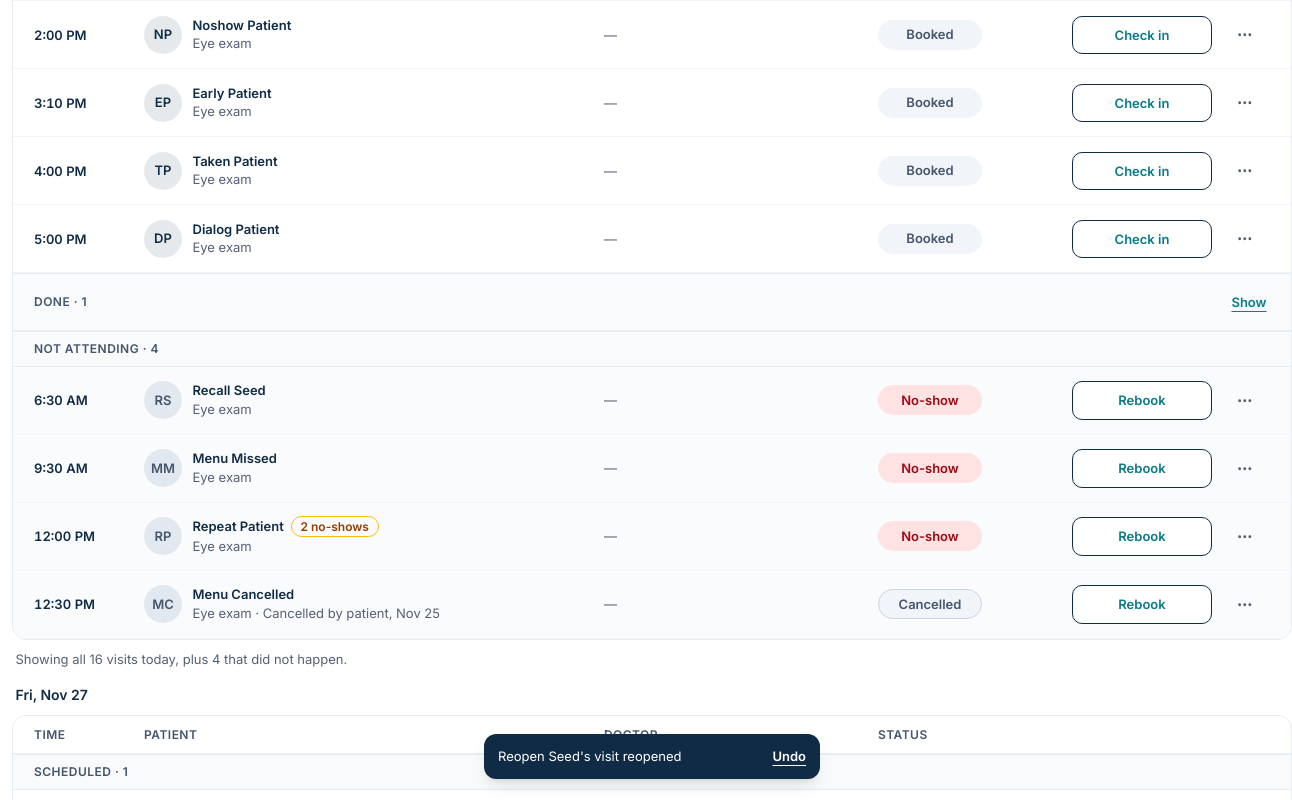
Test: Appointments table › Add to recalls says so
(page scrolled)
What coordinates should you click on to do the following:
click the button named "More actions for Recall Seed"
I would click on:
 (1245, 400)
Its box is [1226, 381, 1264, 420].
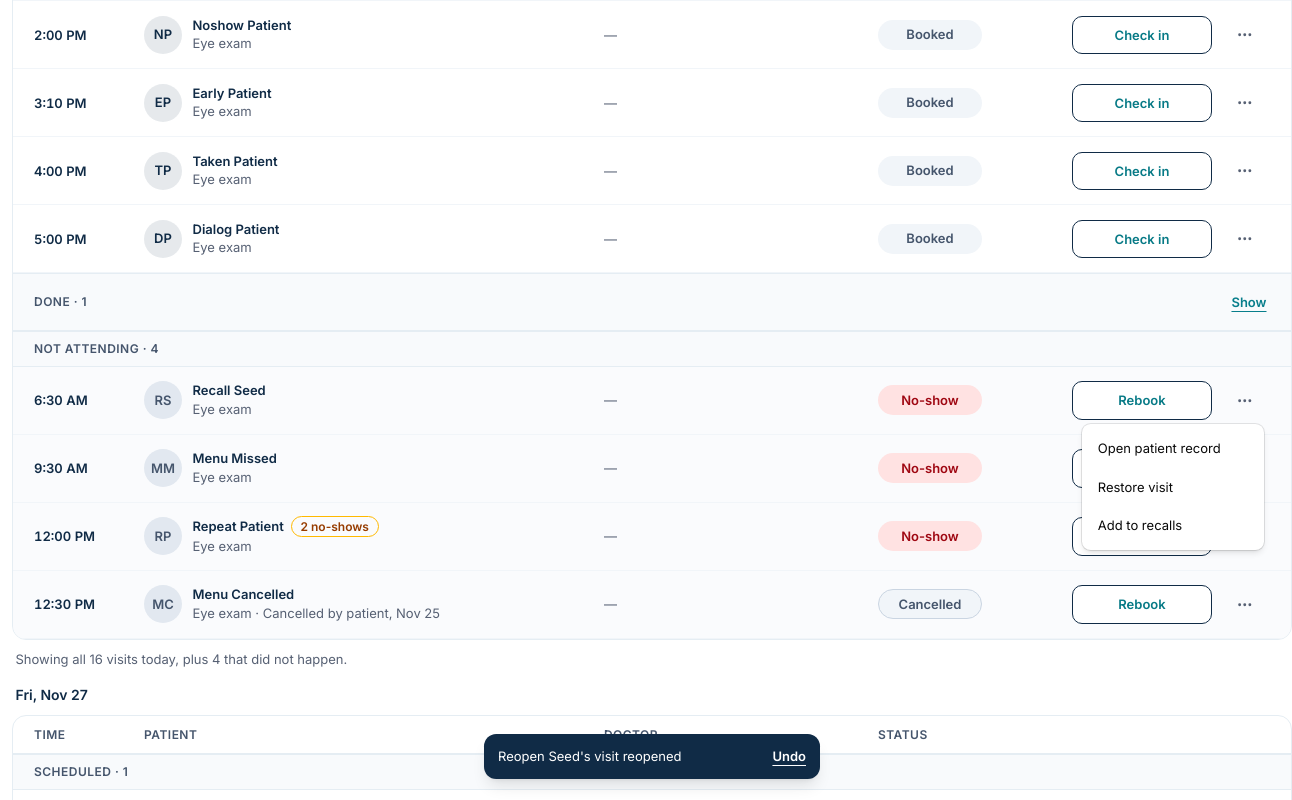
What coordinates should you click on to do the following:
click the menu item "Add to recalls"
I would click on:
 (1140, 525)
Its box is [1098, 517, 1182, 533].
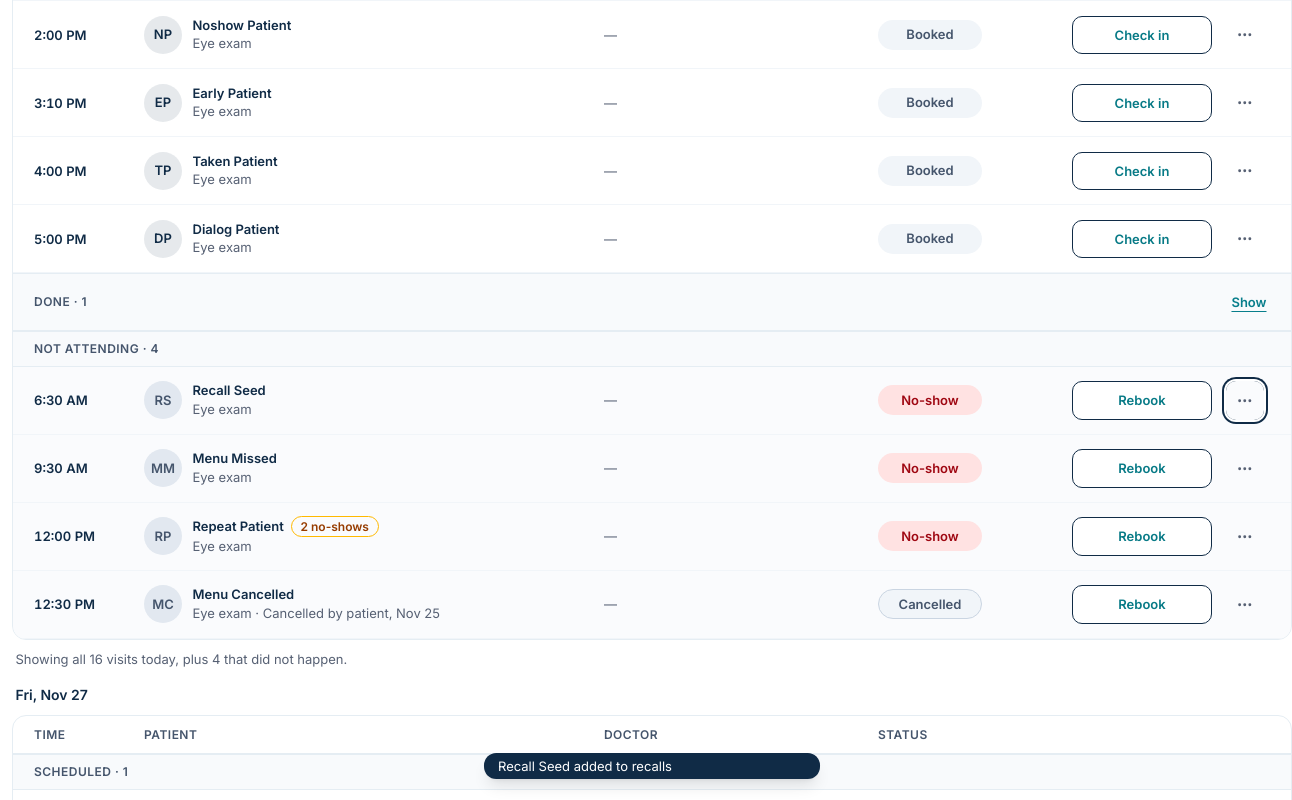
Now the message reads "Recall Seed added to recalls", box [498, 758, 672, 774]
